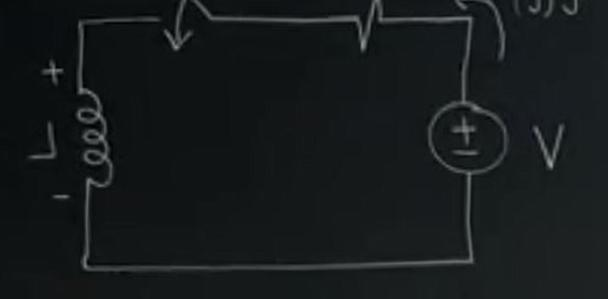Battery: (408, 88, 527, 197)
